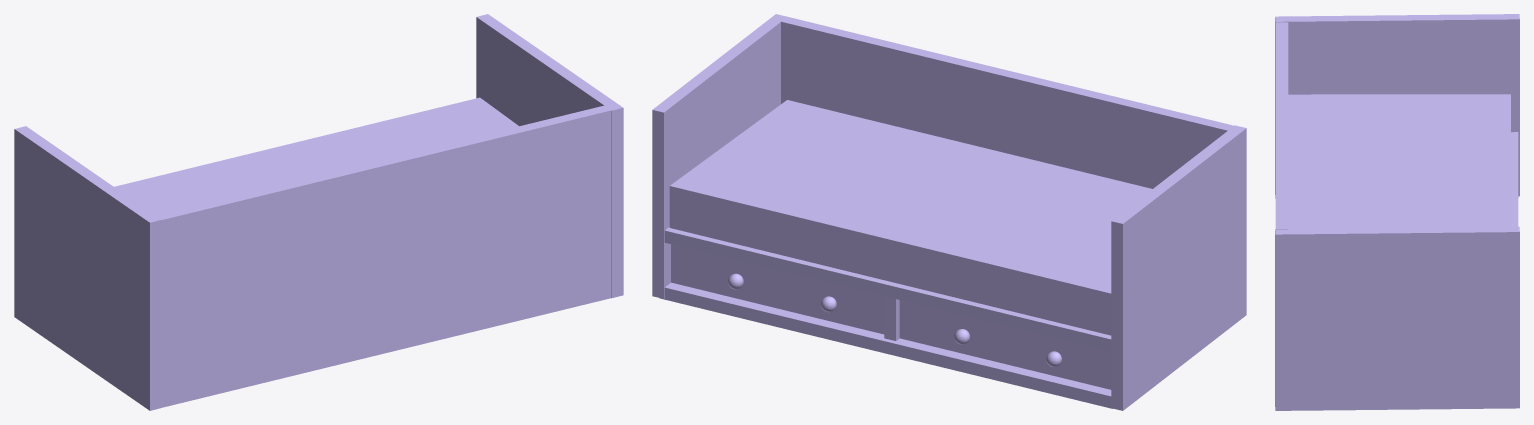
Rendered from very_bed1.glb.
3 views of the same model, side by side, from view 1: azimuth 30°, elevation 25°; view 2: azimuth 150°, elevation 25°; view 3: azimuth 270°, elevation 25° (orthographic). The views are drawn at different scales.
Visible parts, largest first — view 1: Cube001, Cube004, Cube, Cube005; view 2: Cube, Cube001, Cube004, Cube005, Cube002, Cube007, Cube008, Cube003, Cube006; view 3: Cube005, Cube, Cube004, Cube001, Cube003.
Part boxes in pixels (x1=…): Cube001: x1=155, y1=105, x2=611, y2=407; Cube004: x1=14, y1=126, x2=161, y2=410; Cube: x1=114, y1=97, x2=518, y2=214; Cube005: x1=476, y1=14, x2=623, y2=297; Cube: x1=669, y1=100, x2=1152, y2=335; Cube001: x1=781, y1=16, x2=1233, y2=188; Cube004: x1=1111, y1=125, x2=1246, y2=410; Cube005: x1=652, y1=14, x2=786, y2=298; Cube002: x1=659, y1=282, x2=1112, y2=408; Cube007: x1=671, y1=244, x2=884, y2=334; Cube008: x1=899, y1=300, x2=1111, y2=389; Cube003: x1=664, y1=227, x2=1111, y2=351; Cube006: x1=884, y1=296, x2=899, y2=340; Cube005: x1=1275, y1=226, x2=1519, y2=410; Cube: x1=1288, y1=94, x2=1510, y2=228; Cube004: x1=1275, y1=14, x2=1519, y2=198; Cube001: x1=1275, y1=22, x2=1288, y2=229; Cube003: x1=1511, y1=132, x2=1518, y2=226.
Size of the model in its own units: 14.01 by 5.29 by 6.59.
